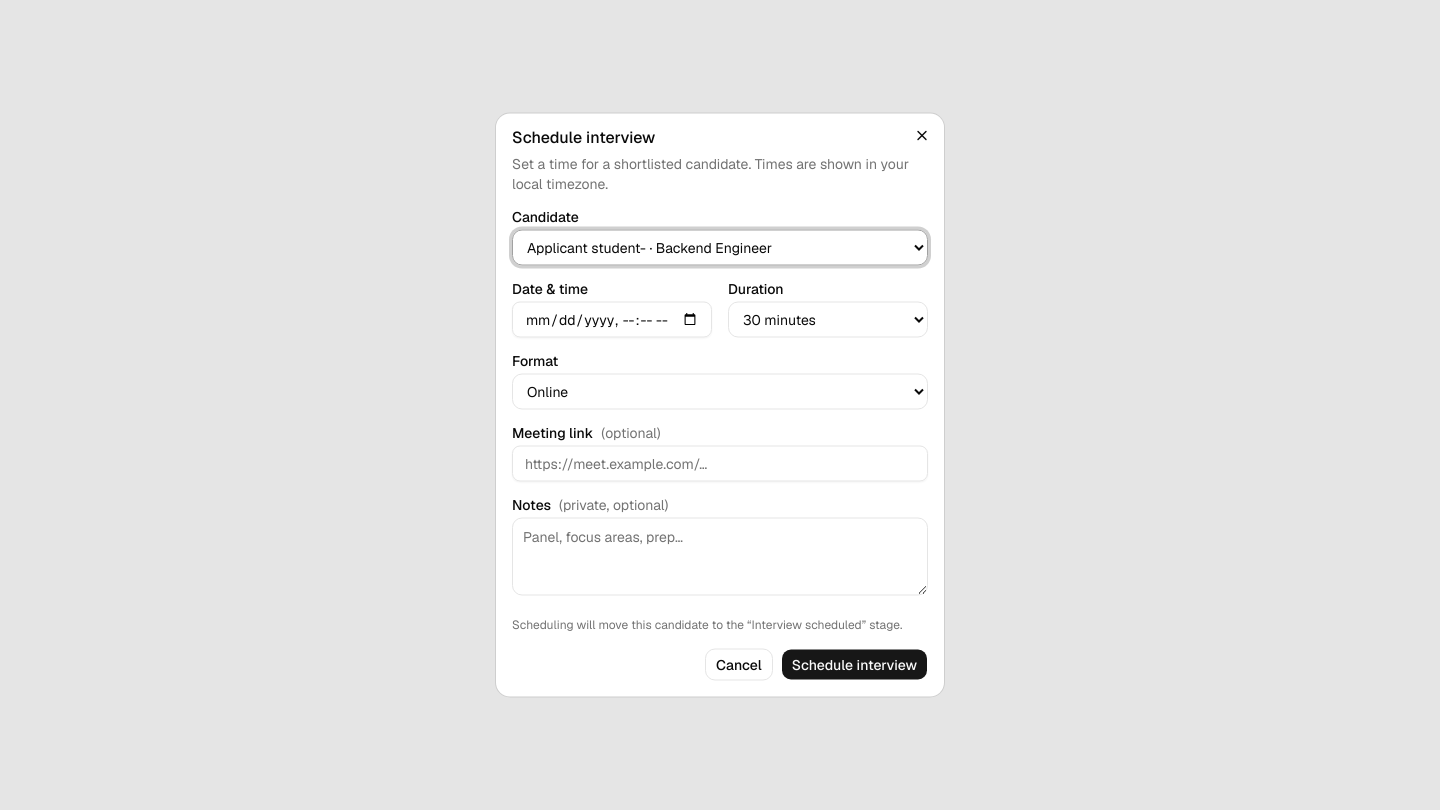
Test: InterviewFormDialog › blocks submit and flags the date field when it is empty
The width and height of the screenshot is (1440, 810).
Click the button "Schedule interview". click: (854, 664)
box: [781,648,928,680]
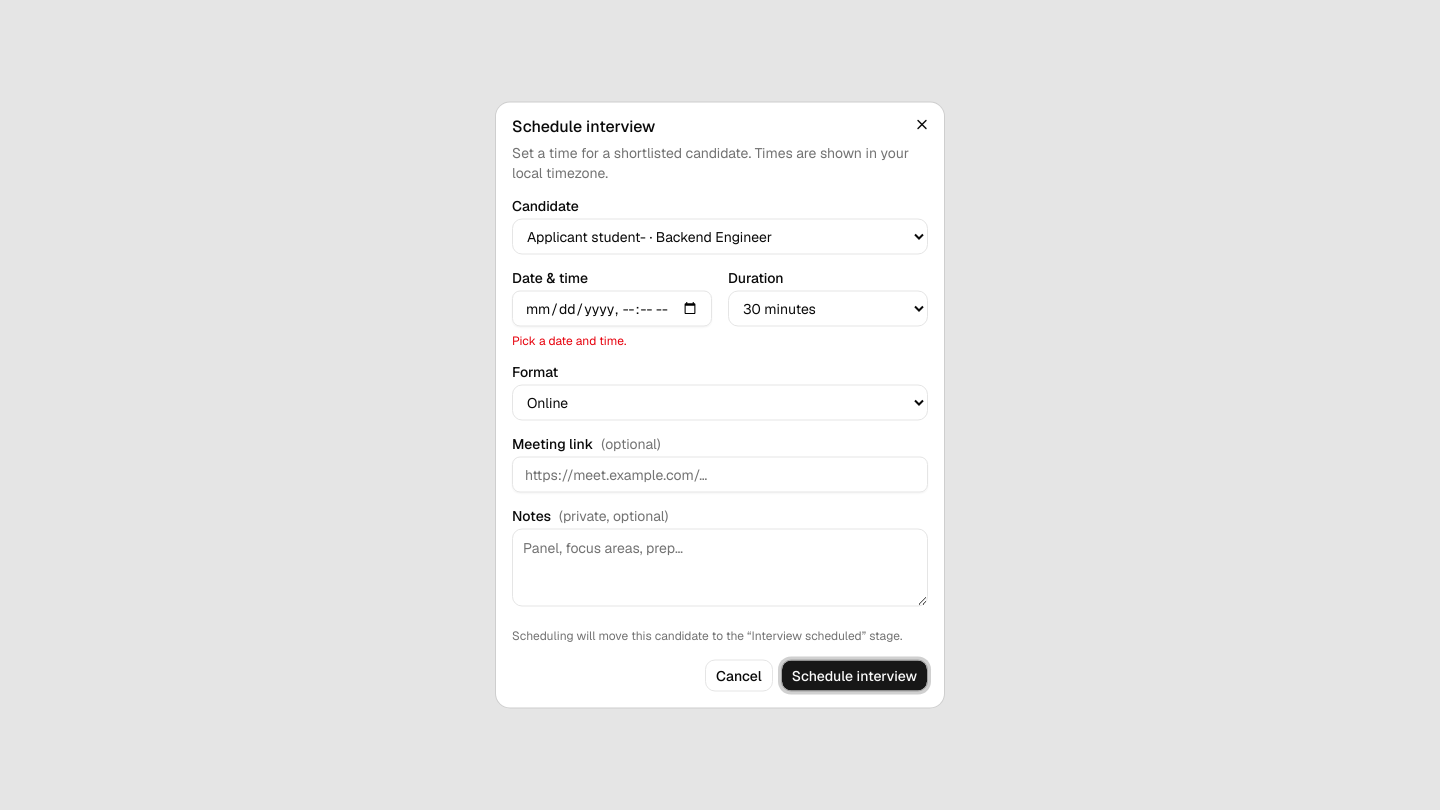
expect the text "Pick a date and time." is shown: met, box [512,332,626,348]
